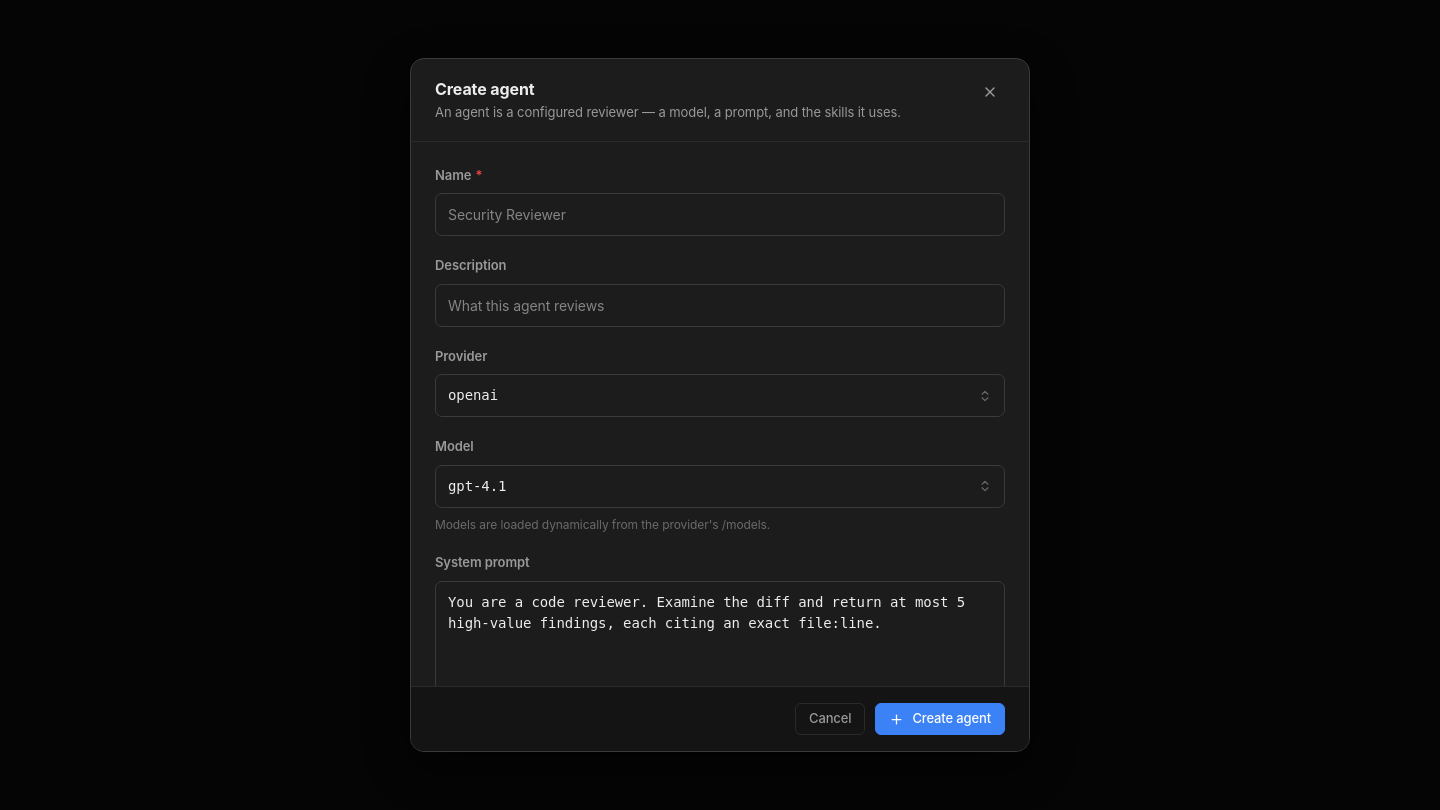
it: CreateAgentModal model picker › clears the model and blocks submit when the provider changes
The width and height of the screenshot is (1440, 810).
Expected: the button "Create agent" is enabled, x1=875 y1=703 x2=1005 y2=735
Select "anthropic" in the dropdown showing "openai" at point(708, 396), box x1=448 y1=385 x2=968 y2=406
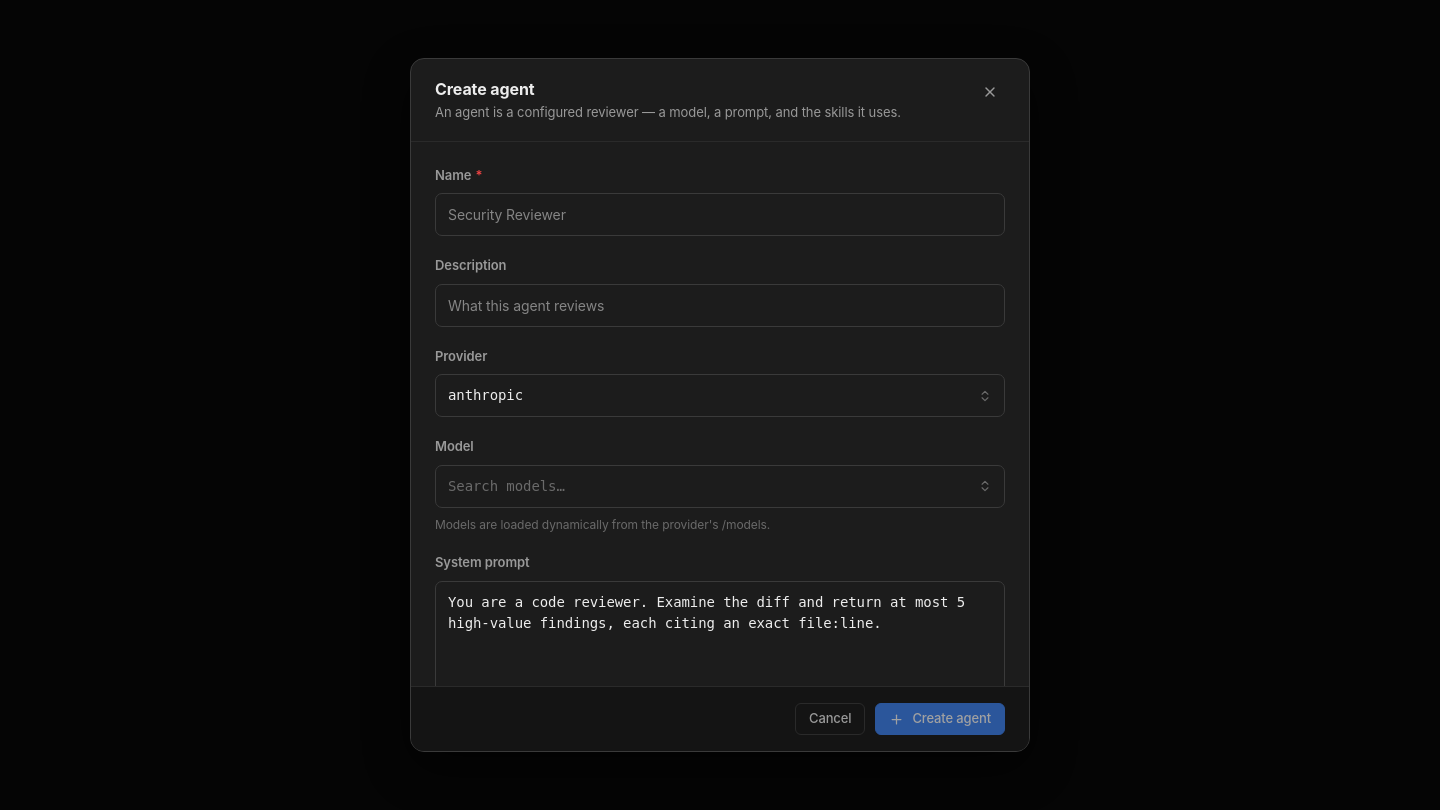
Expected: the text "gpt-4.1" is gone
Expected: the text "Search models…" is shown, x1=448 y1=478 x2=565 y2=494
Expected: the button "Create agent" is disabled, x1=875 y1=703 x2=1005 y2=735
